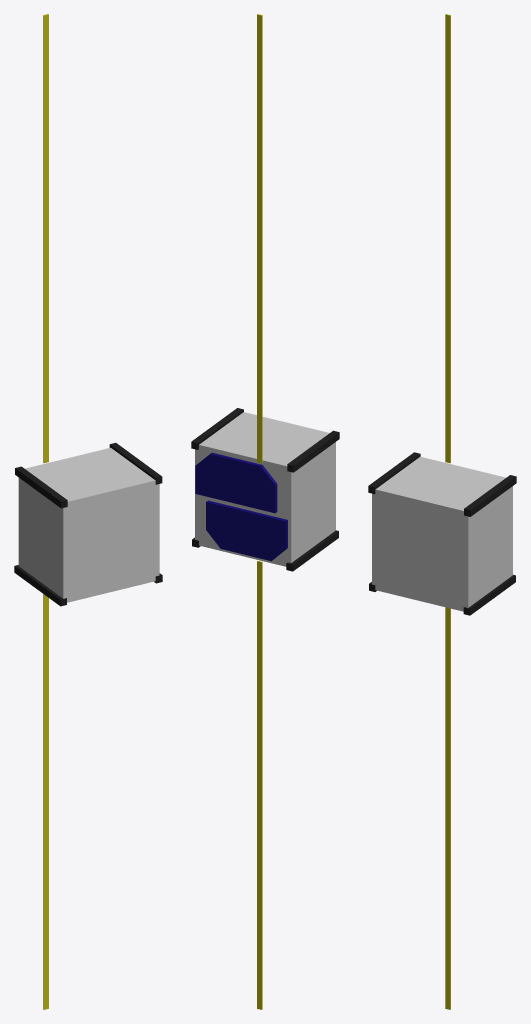
File: spacebee2gen.obj
The picture shows the model from 3 angles, left to right: view 1: azimuth 30°, elevation 25°; view 2: azimuth 150°, elevation 25°; view 3: azimuth 330°, elevation 25°; orthographic projection.
Visible parts, largest first — view 1: Cube.004, Cube.009, Cube.010, Cube.006, Cube.007, Cube.008; view 2: Cube.004, Cube.012, Cube.005, Cube.009, Cube.010, Cube.006, Cube.007, Cube.008; view 3: Cube.004, Cube.009, Cube.010, Cube.008, Cube.013, Cube.006.
Part boxes in pixels (bbox=[...]): Cube.004: bbox=[18, 447, 159, 602]; Cube.009: bbox=[43, 14, 48, 463]; Cube.010: bbox=[43, 594, 48, 1009]; Cube.006: bbox=[15, 466, 67, 508]; Cube.007: bbox=[14, 565, 66, 606]; Cube.008: bbox=[109, 443, 162, 484]; Cube.004: bbox=[195, 412, 335, 566]; Cube.012: bbox=[195, 452, 277, 513]; Cube.005: bbox=[206, 500, 287, 561]; Cube.009: bbox=[257, 14, 262, 463]; Cube.010: bbox=[257, 561, 262, 1009]; Cube.006: bbox=[287, 430, 339, 472]; Cube.007: bbox=[286, 530, 338, 571]; Cube.008: bbox=[191, 408, 243, 449]; Cube.004: bbox=[372, 456, 512, 611]; Cube.009: bbox=[445, 14, 450, 462]; Cube.010: bbox=[445, 607, 450, 1009]; Cube.008: bbox=[464, 475, 516, 516]; Cube.013: bbox=[463, 574, 515, 615]; Cube.006: bbox=[368, 452, 420, 494].
Size of the model in its own units: 0.0321 by 0.3 by 0.0262.
